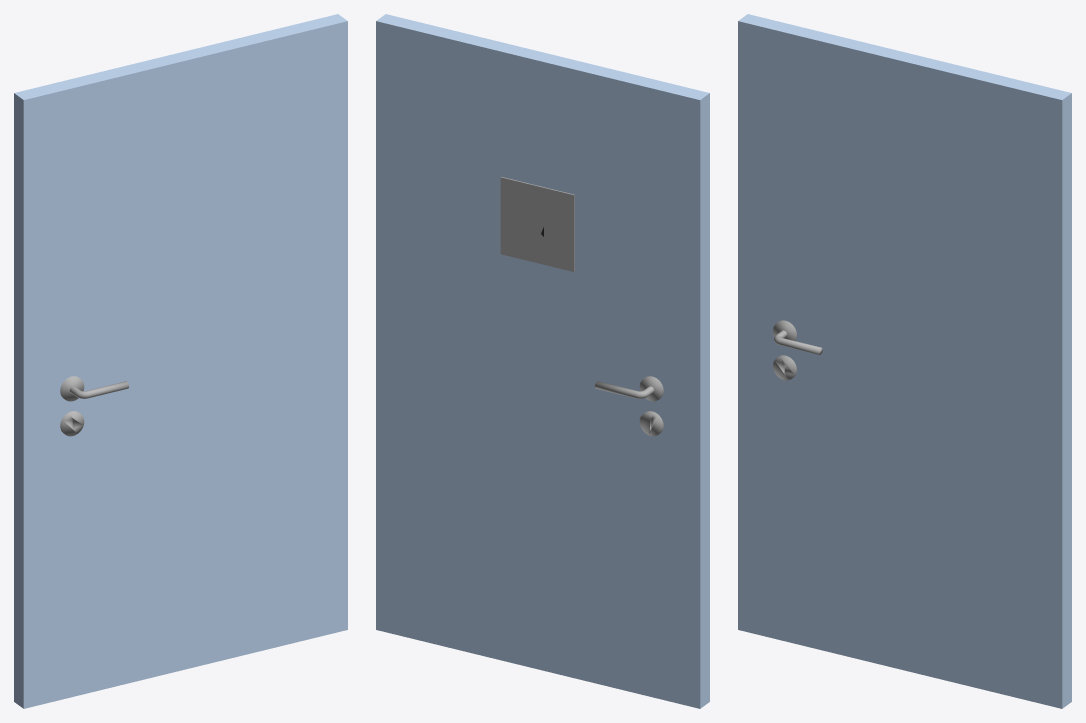
File: Men.fbx
3 views of the same model, side by side, from view 1: azimuth 30°, elevation 25°; view 2: azimuth 150°, elevation 25°; view 3: azimuth 330°, elevation 25° (orthographic).
Parts seen in each view (by area): view 1: Door.002; view 2: Door.002; view 3: Door.002.
Part boxes in pixels (x1,y1,x2,y2): Door.002: [14, 14, 347, 708]; Door.002: [376, 14, 709, 708]; Door.002: [738, 14, 1071, 708].
Size of the model in its own units: 148 by 267 by 27.09.
